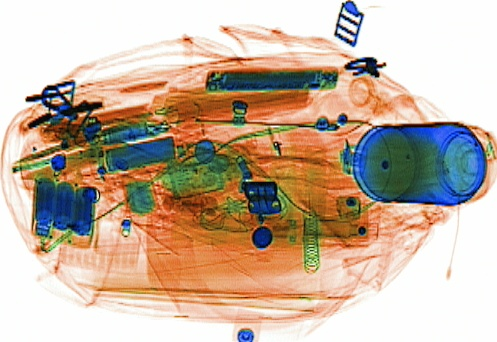powerbank: (28, 174, 97, 249)
